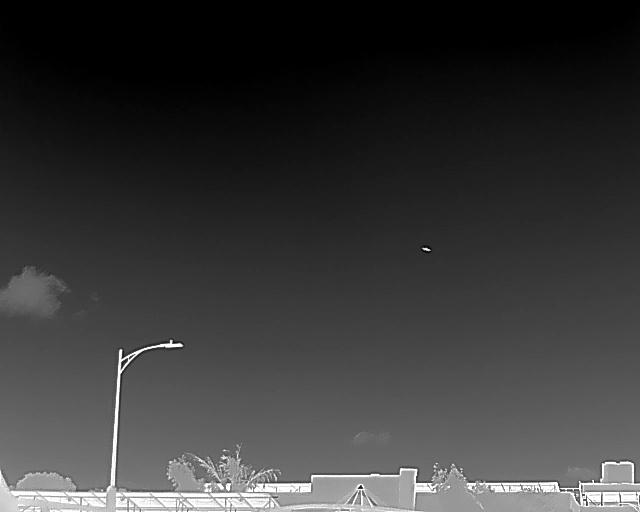fpv-drone: (421, 246, 430, 251)
